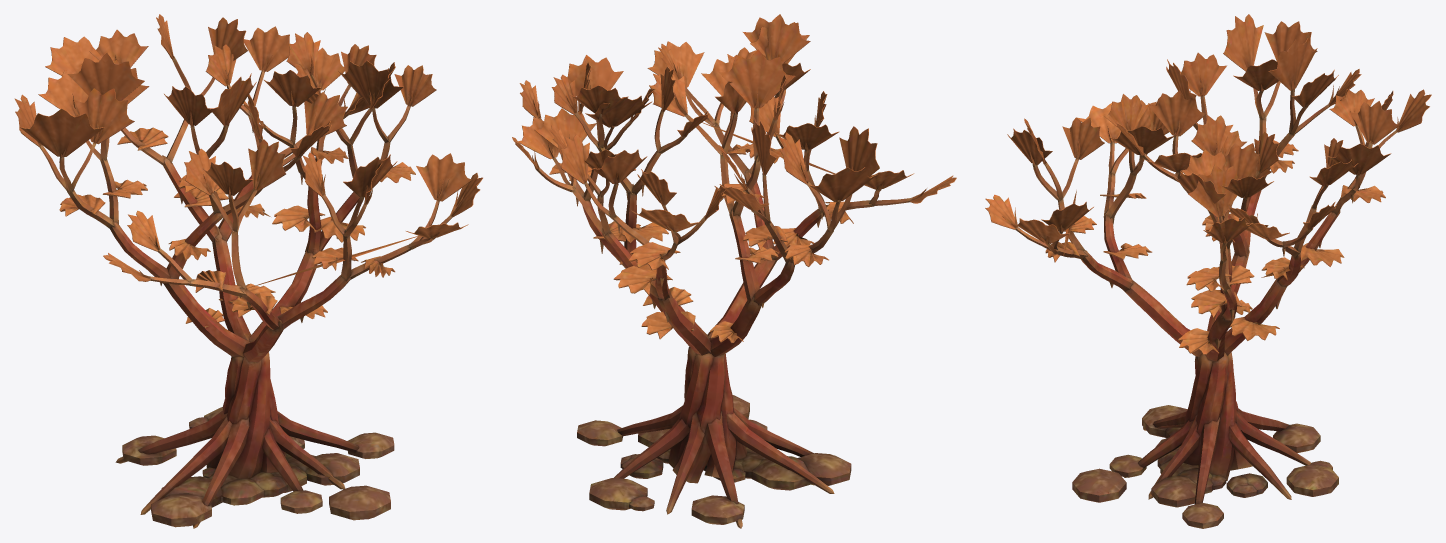
File: mars_ferric_small.glb
The picture shows the model from 3 angles, left to right: view 1: azimuth 30°, elevation 25°; view 2: azimuth 150°, elevation 25°; view 3: azimuth 270°, elevation 25°; orthographic projection. The views are drawn at different scales.
Visible parts, largest first — view 1: ferric_body; view 2: ferric_body; view 3: ferric_body.
Boxes of the visible parts, x1,y1,x2,y2 form: ferric_body: [14, 14, 482, 528]; ferric_body: [512, 14, 956, 528]; ferric_body: [985, 14, 1431, 528].
Size of what is drawn, in the model's own units: 2.45 by 2.59 by 2.63.
3 materials, 3 textured.
